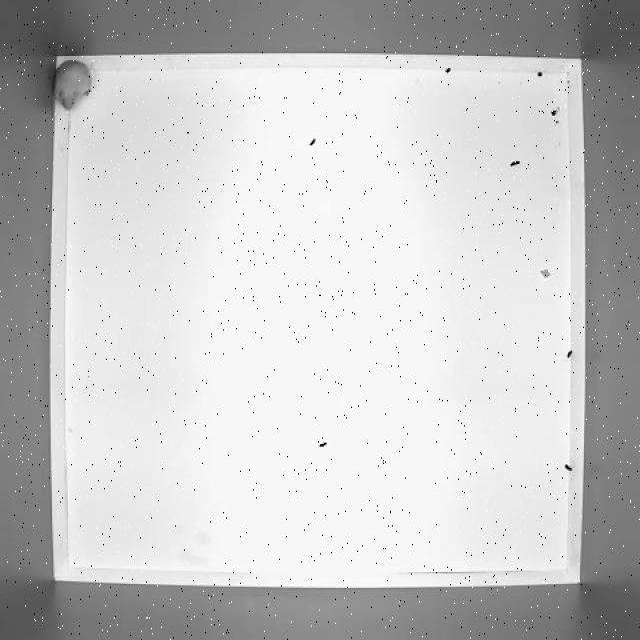rat: (46, 50, 106, 117)
